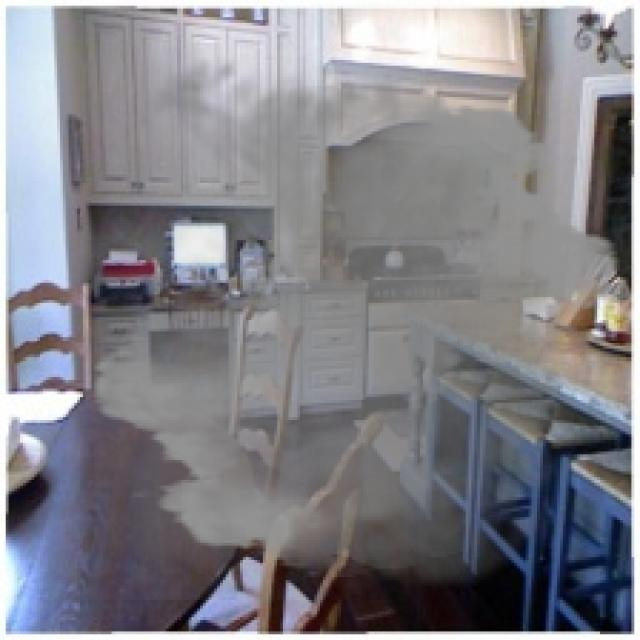smoke: (74, 40, 637, 600)
